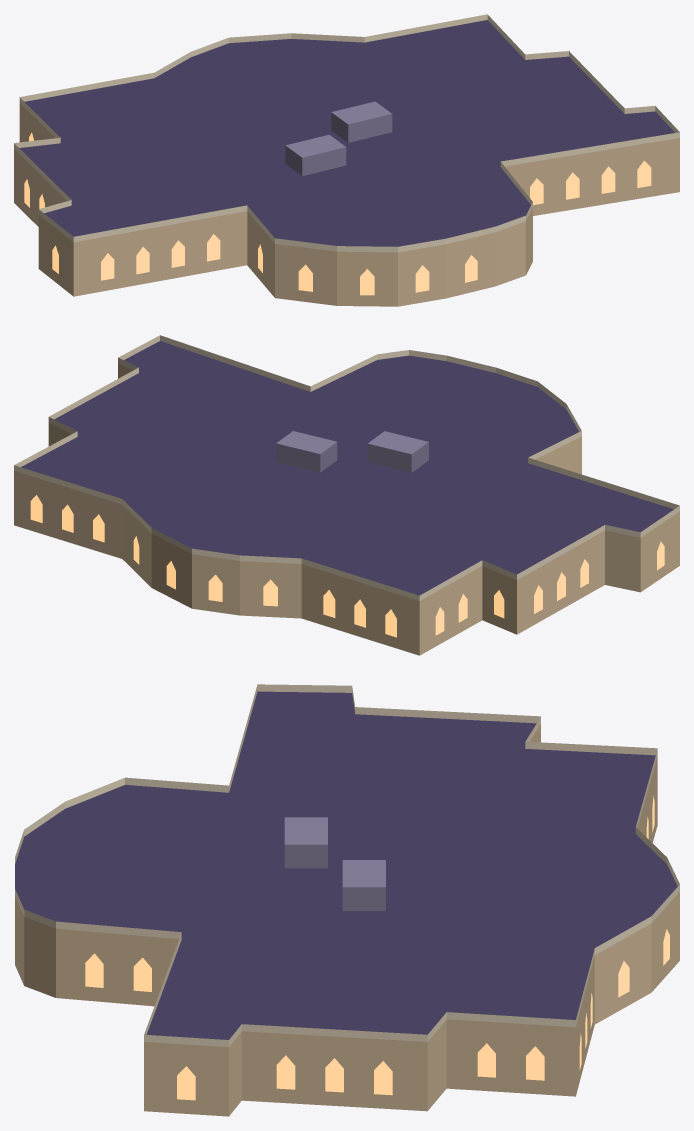
Rendered from b-118-j-w-little-memorial-building.glb.
The picture shows the model from 3 angles, top to bottom: view 1: azimuth 30°, elevation 25°; view 2: azimuth 150°, elevation 25°; view 3: azimuth 270°, elevation 25°; orthographic projection. The views are drawn at different scales.
Parts seen in each view (by area): view 1: campus/b-118-j-w-little-memorial-building-0; view 2: campus/b-118-j-w-little-memorial-building-0; view 3: campus/b-118-j-w-little-memorial-building-0.
Part boxes in pixels (x1,y1,x2,y2): campus/b-118-j-w-little-memorial-building-0: [14, 14, 679, 306]; campus/b-118-j-w-little-memorial-building-0: [14, 335, 679, 655]; campus/b-118-j-w-little-memorial-building-0: [15, 684, 679, 1116].
Bounding box in the file's own units: 58.3 × 7.1 × 46.14.
